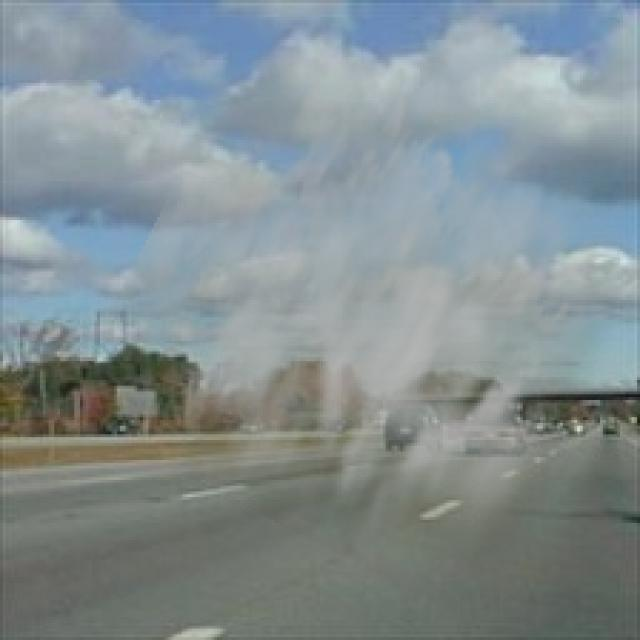smoke: (103, 54, 634, 617)
